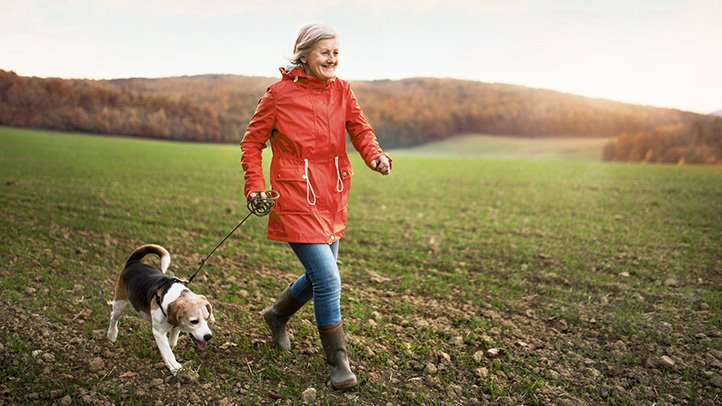feet: (249, 285, 379, 389)
